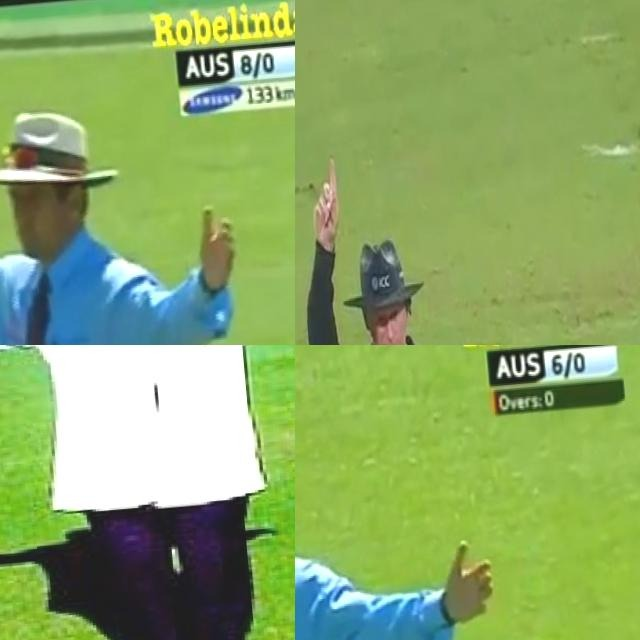No_Ball: (295, 389, 524, 640)
Out: (295, 135, 495, 345)
Wide: (0, 345, 295, 640), (0, 87, 274, 345)
